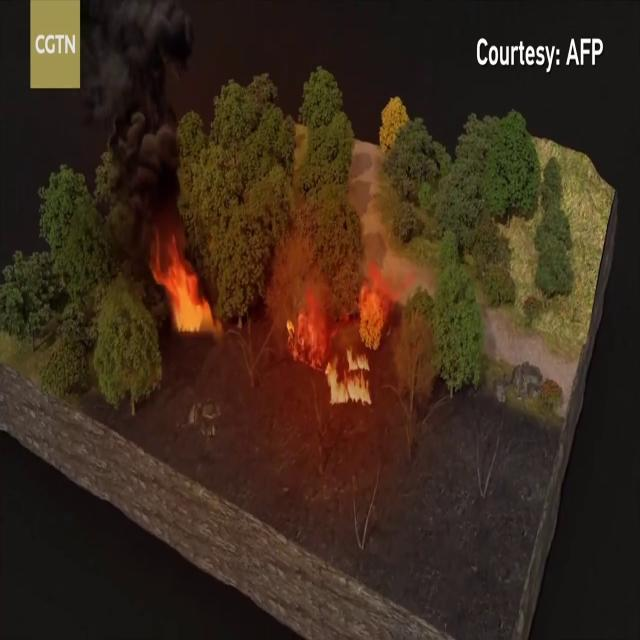Fire: (286, 264, 406, 409), (154, 232, 216, 338), (325, 336, 373, 410)
Smoke: (72, 0, 194, 268)
